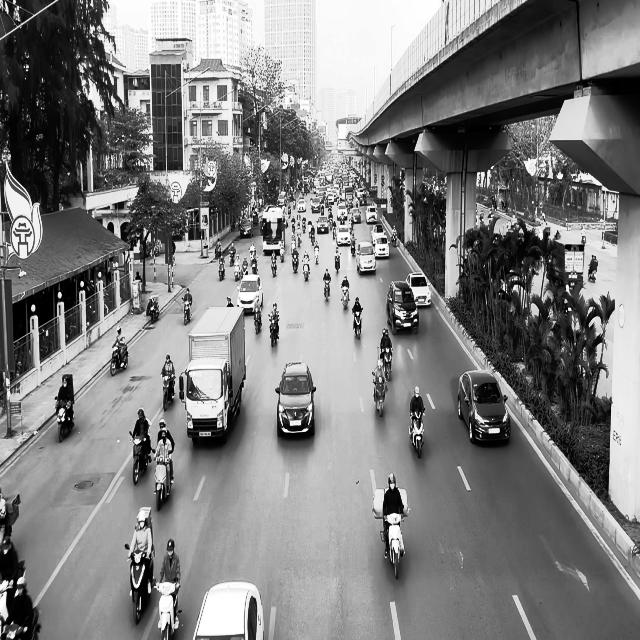bus: (261, 204, 285, 256)
car: (192, 581, 264, 639), (457, 370, 510, 444), (275, 360, 316, 438), (386, 280, 419, 335), (236, 274, 263, 314), (406, 272, 432, 307), (356, 242, 376, 274), (240, 219, 253, 238)
motorbike: (124, 542, 155, 625), (380, 513, 406, 580), (155, 580, 181, 640), (154, 450, 174, 511), (129, 430, 151, 485), (54, 396, 75, 443), (408, 410, 425, 458), (372, 372, 388, 417), (160, 372, 176, 411), (110, 343, 128, 376), (379, 347, 393, 381), (268, 314, 279, 346), (352, 308, 362, 339), (181, 297, 192, 325), (148, 296, 159, 323), (253, 306, 262, 334), (340, 284, 349, 309), (323, 279, 331, 301), (302, 259, 310, 281), (218, 258, 225, 280), (588, 266, 597, 282), (271, 257, 277, 277), (334, 252, 340, 272)
truck: (178, 305, 246, 445)
